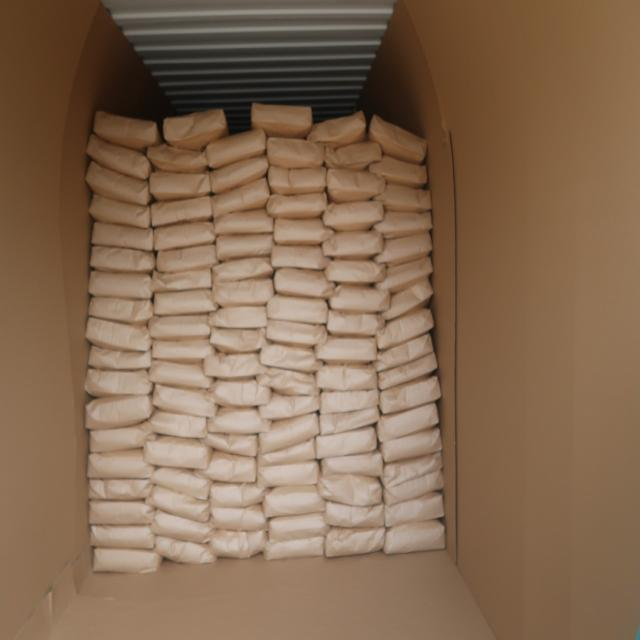gunny_bag: (88, 132, 154, 178), (370, 116, 430, 164), (83, 163, 151, 205), (164, 110, 230, 150), (94, 112, 163, 150), (258, 411, 320, 453), (376, 402, 439, 443), (82, 394, 153, 430), (376, 306, 434, 348), (206, 128, 268, 167), (380, 375, 443, 413), (378, 353, 441, 391), (208, 155, 270, 193), (212, 178, 270, 218), (143, 435, 211, 469), (146, 485, 210, 521), (381, 451, 443, 488), (374, 334, 434, 372), (84, 318, 151, 352), (376, 256, 434, 295), (386, 492, 445, 530), (249, 105, 313, 140), (384, 518, 446, 554), (380, 428, 442, 464), (380, 280, 433, 322), (308, 111, 368, 148), (318, 474, 383, 508), (155, 386, 219, 420), (385, 470, 445, 506), (149, 467, 213, 500), (150, 511, 214, 544), (316, 425, 378, 459), (86, 449, 156, 479), (262, 486, 326, 518), (88, 195, 150, 228), (324, 168, 384, 202), (88, 423, 156, 453), (152, 358, 217, 389), (152, 195, 216, 226), (322, 200, 384, 232), (374, 232, 432, 266), (82, 368, 152, 396), (324, 526, 384, 558), (266, 137, 326, 169), (151, 219, 215, 249), (93, 548, 162, 575), (368, 156, 428, 187), (322, 230, 384, 260), (274, 268, 336, 298), (212, 276, 274, 306), (156, 536, 218, 566), (210, 378, 272, 408), (148, 170, 210, 200), (86, 270, 152, 298), (86, 296, 152, 324), (89, 245, 154, 273), (208, 528, 268, 558), (147, 142, 207, 172), (266, 293, 328, 322), (316, 363, 378, 392), (155, 243, 217, 272), (274, 218, 336, 247), (208, 407, 272, 435), (314, 336, 378, 364), (256, 368, 320, 396), (92, 526, 158, 553), (90, 222, 153, 250), (320, 450, 383, 478), (259, 343, 322, 371), (205, 350, 268, 378), (325, 141, 383, 171), (372, 184, 432, 213), (324, 501, 386, 529), (328, 284, 390, 312), (204, 451, 258, 483), (152, 315, 216, 342), (87, 501, 156, 526), (318, 407, 379, 435), (152, 338, 217, 364), (151, 288, 216, 314), (266, 166, 326, 194), (374, 210, 434, 238), (257, 392, 319, 419), (266, 192, 328, 219), (268, 513, 330, 540), (258, 438, 317, 466), (146, 411, 207, 438), (265, 322, 326, 349), (257, 459, 318, 486), (327, 310, 387, 337), (324, 259, 384, 286), (154, 268, 218, 293), (271, 244, 332, 270), (86, 478, 152, 502), (210, 505, 268, 532), (213, 208, 273, 234), (210, 258, 270, 284), (264, 534, 326, 559), (88, 346, 152, 370), (318, 388, 379, 413), (210, 481, 268, 507), (215, 232, 272, 258), (212, 326, 268, 352), (209, 304, 268, 328), (206, 430, 260, 456)
